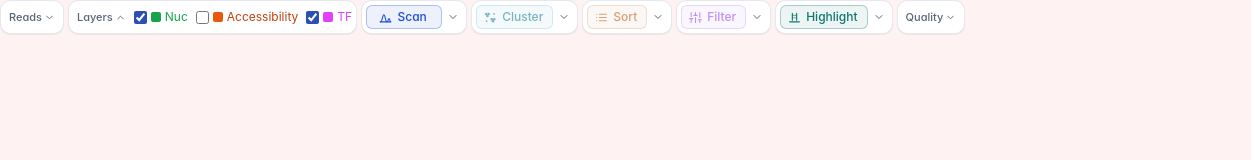
Test: ClusterPanel toolbar groups › enables auto-cull after clustering has assignments and peak regions
Click the button with test id "toolbar-group-toggle-cluster": [564, 17] box left=555, top=6, right=573, bottom=28
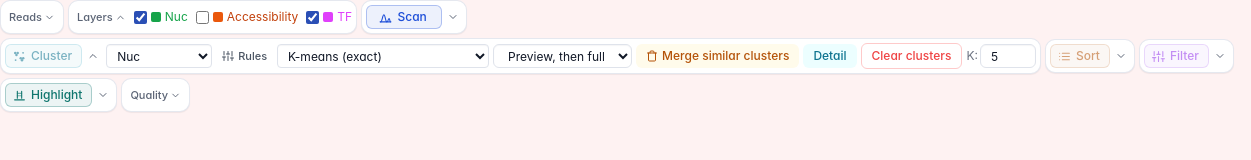
Now the button with test id "cluster-auto-cull-button" is enabled, box left=636, top=44, right=799, bottom=68
